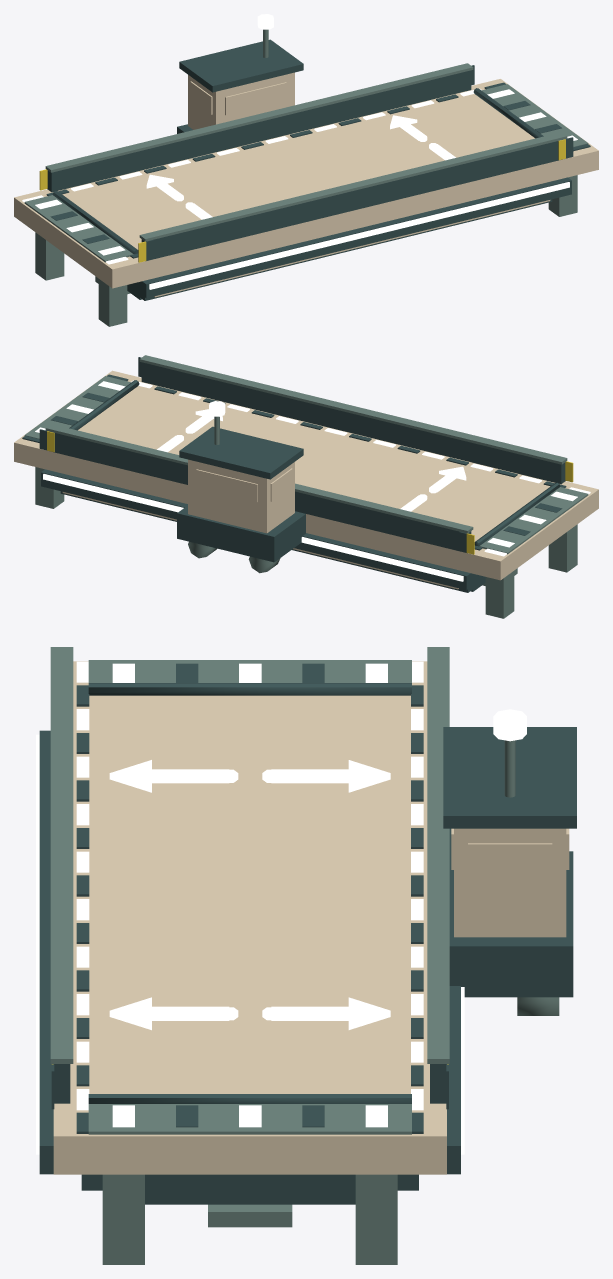
File: Deck_Ferry_v4_8_lab2.glb
3 views of the same model, one above another, from view 1: azimuth 30°, elevation 25°; view 2: azimuth 150°, elevation 25°; view 3: azimuth 270°, elevation 25° (orthographic). The views are drawn at different scales.
Parts seen in each view (by area): view 1: Deck_Ferry_v4_8; view 2: Deck_Ferry_v4_8; view 3: Deck_Ferry_v4_8.
Part boxes in pixels (x1,y1,x2,y2): Deck_Ferry_v4_8: (14,14,598,326); Deck_Ferry_v4_8: (14,355,598,618); Deck_Ferry_v4_8: (36,647,576,1264).
Size of the model in its own units: 8 by 2.7 by 3.85.
